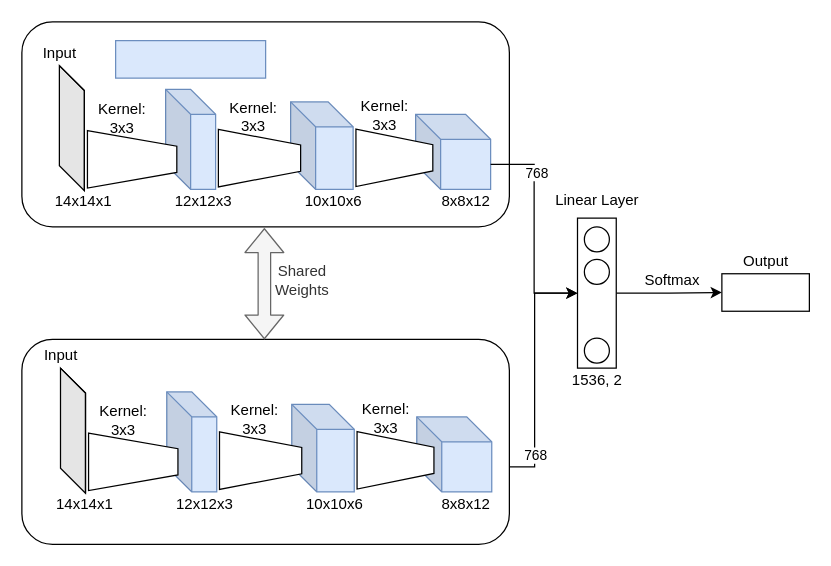
The diagram is 831 pixels wide and 566 high, and some of its shapes have lost their labels. The centre of each missing label's shape, as x and y in pixels:
"1x2" belongs at (765,291).
"Convolutional Layer + ReLU" belongs at (190,58).
